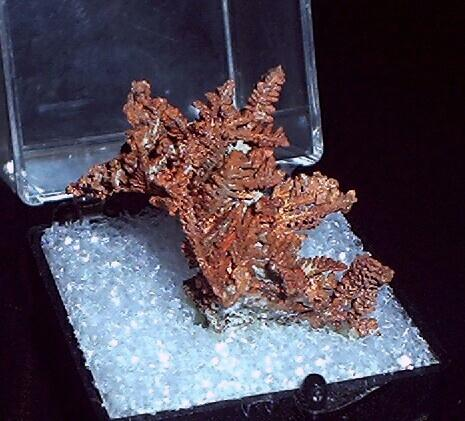copper: (67, 68, 394, 338)
